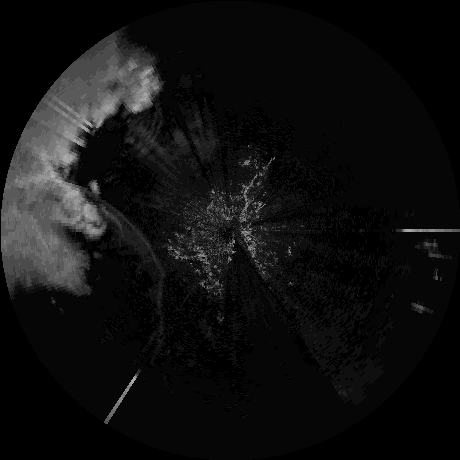frontgust: (101, 198, 166, 327)
